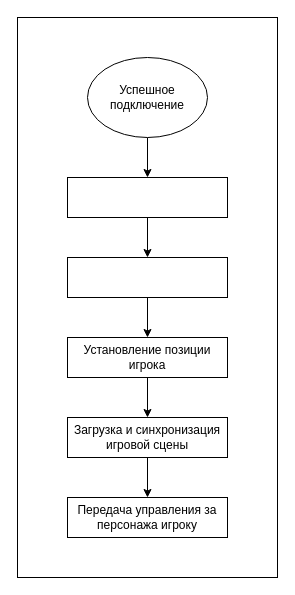
The diagram is 295 pixels wide and 595 high, and some of its shapes have lost their labels. Here are the shapes that lost their labels. From the top down, the centre of each, then its label:
At pixel 147 197: "Создание персонажа".
At pixel 147 277: "Получение координаты точки спавна".
